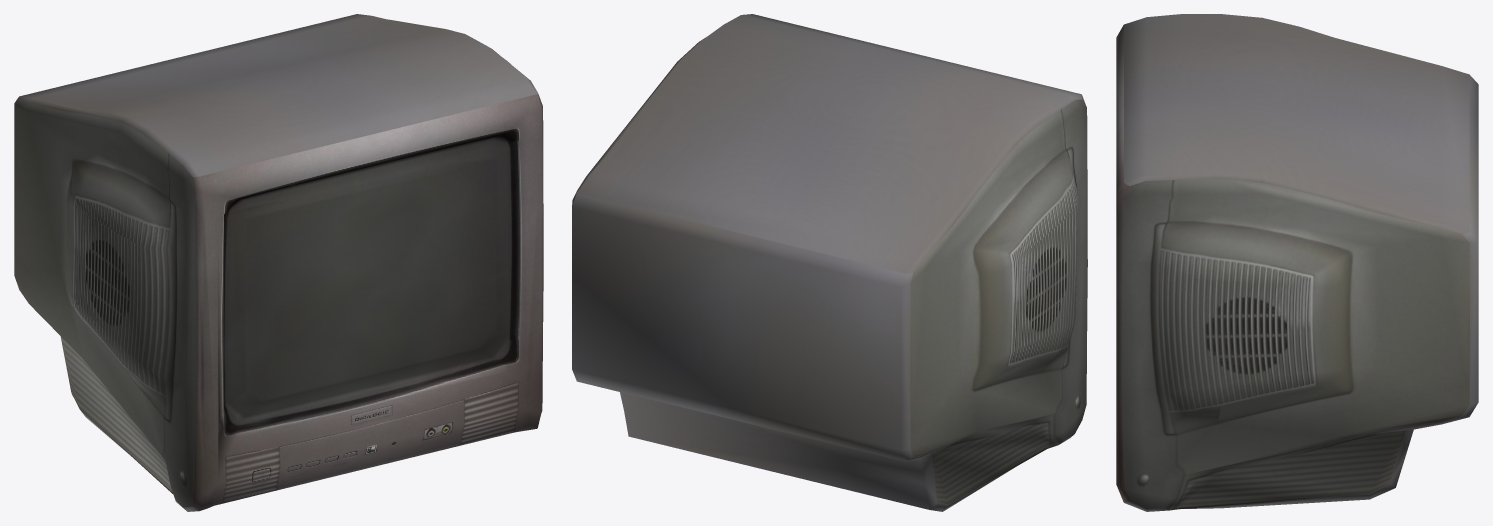
File: CRT_TV1.glb
3 views of the same model, side by side, from view 1: azimuth 30°, elevation 25°; view 2: azimuth 150°, elevation 25°; view 3: azimuth 270°, elevation 25° (orthographic). The views are drawn at different scales.
Visible parts, largest first — view 1: crtTV; view 2: crtTV; view 3: crtTV.
Part boxes in pixels (x1,y1,x2,y2): crtTV: [14, 14, 543, 511]; crtTV: [572, 14, 1087, 511]; crtTV: [1116, 14, 1478, 511].
Size of what is drawn, in the model's own units: 0.8394 by 0.7285 by 0.6974.
3 materials, 3 textured.
